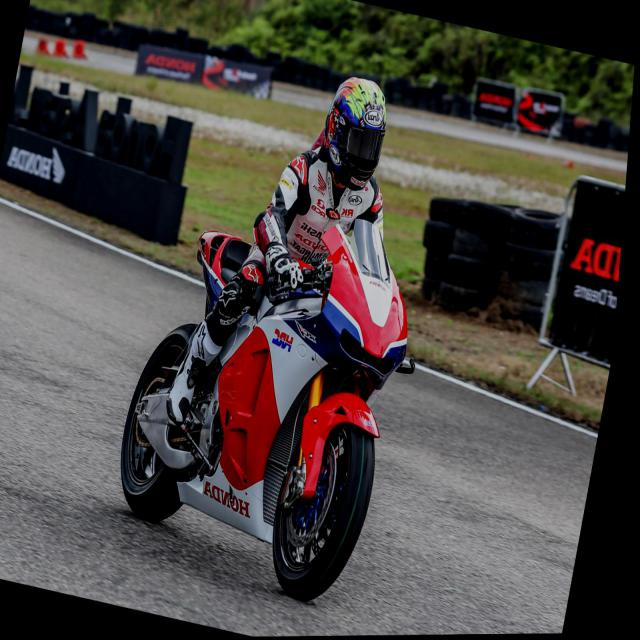HRC RCV 213: (105, 169, 434, 614)
